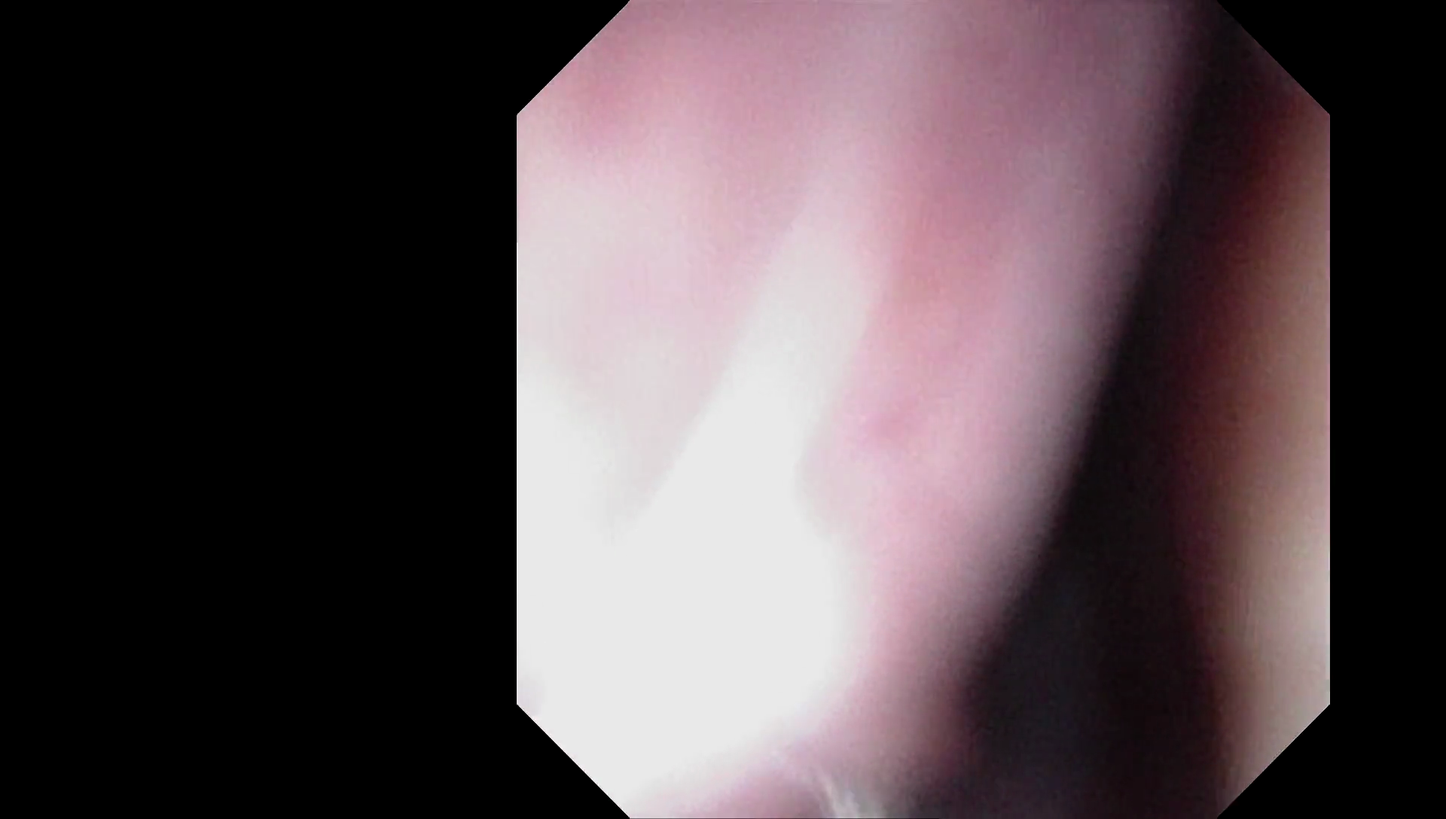close_wall: (523, 138, 1013, 703)
next: (922, 443, 1239, 781), (1060, 55, 1264, 468)
